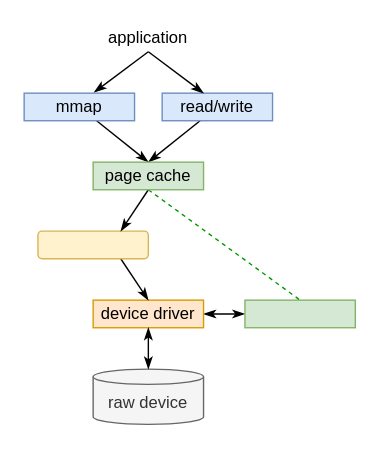
Image size: 380x449. Some labels were removed from this diagram. Here are the shapes that lost their labels. From the top down, the centre of each, then its label:
At (92,244): "EXT4".
At (299,313): "buffer cache".
